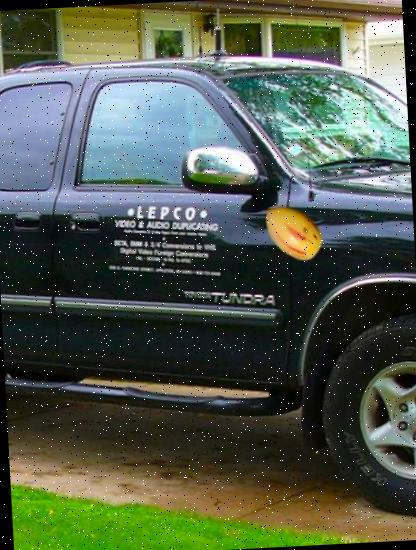Pepino: (260, 196, 330, 266)
